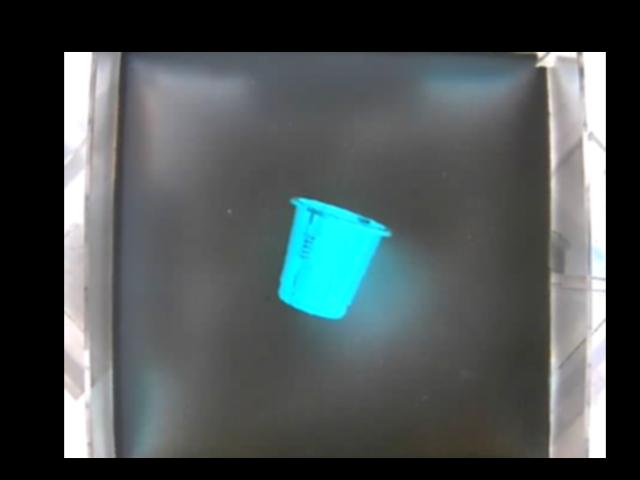Cup: (275, 197, 390, 318)
